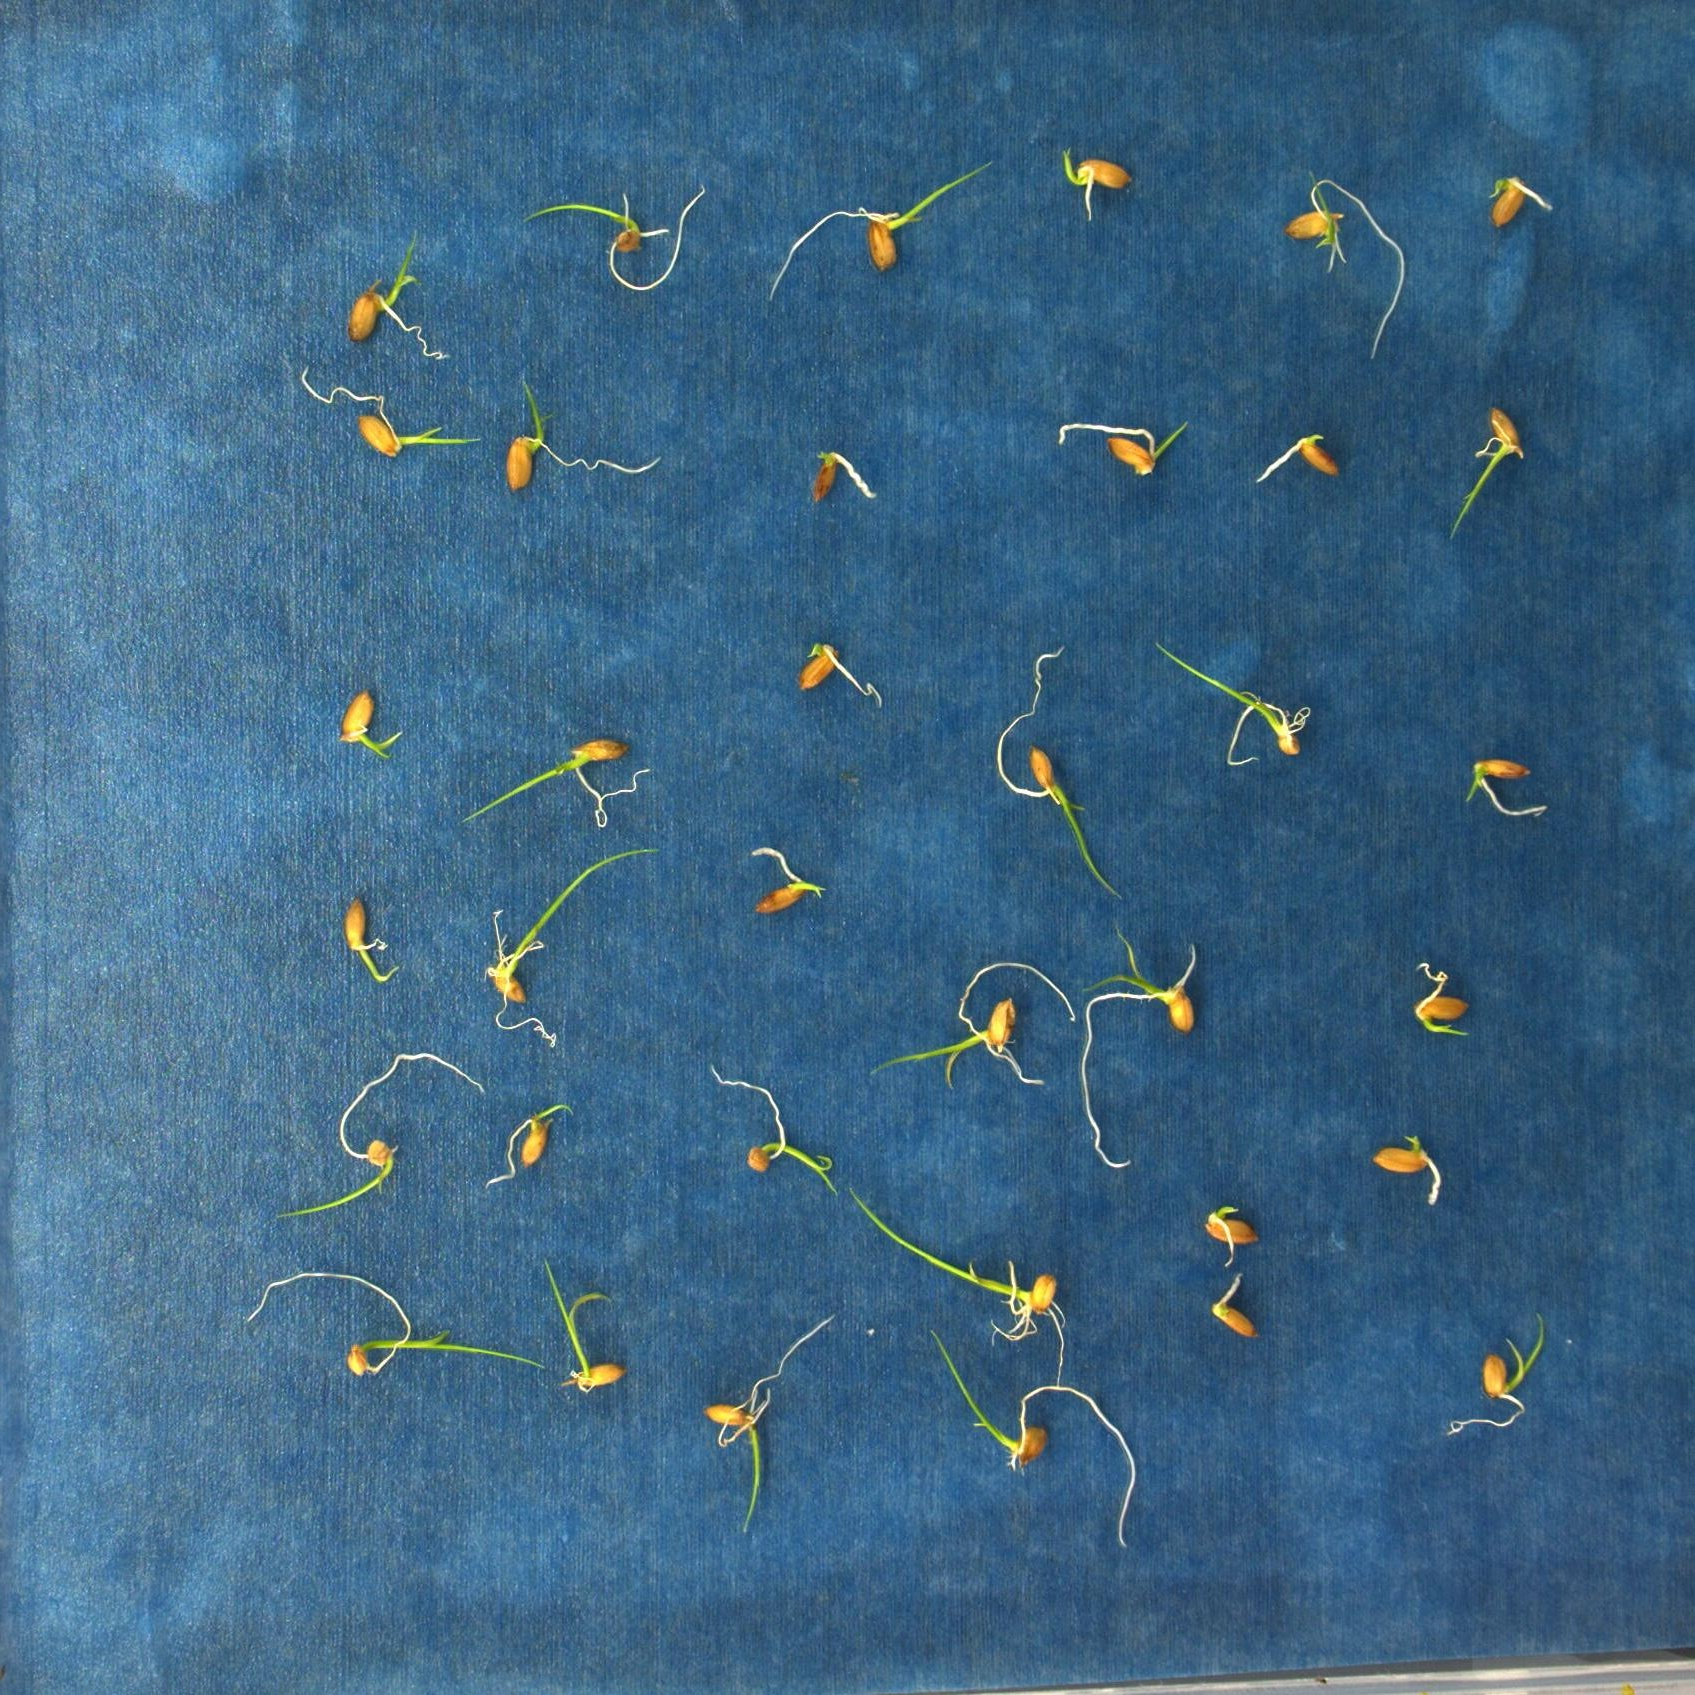not sprout: (789, 633, 886, 709), (1366, 1127, 1447, 1209), (1246, 427, 1357, 483), (798, 435, 879, 509), (1191, 1191, 1267, 1263), (1482, 165, 1551, 236), (1200, 1274, 1263, 1343)
sprout: (837, 1177, 1076, 1395), (933, 1327, 1146, 1562), (242, 1270, 556, 1399), (757, 157, 1014, 309), (278, 1048, 486, 1220), (477, 847, 647, 1054), (984, 647, 1122, 900), (697, 1309, 841, 1538), (1080, 917, 1201, 1172), (861, 948, 1077, 1090), (1277, 171, 1409, 369), (486, 365, 664, 501), (518, 180, 706, 301), (1153, 638, 1318, 771), (290, 363, 486, 472), (456, 730, 646, 840), (706, 1055, 841, 1189), (337, 224, 455, 369), (536, 1256, 635, 1403), (1440, 400, 1535, 545), (1454, 1309, 1554, 1437), (1052, 414, 1206, 484), (489, 1096, 577, 1191), (747, 838, 835, 927), (329, 886, 402, 990), (328, 678, 413, 767), (1405, 956, 1489, 1045), (1458, 750, 1557, 823), (1057, 137, 1132, 217)
